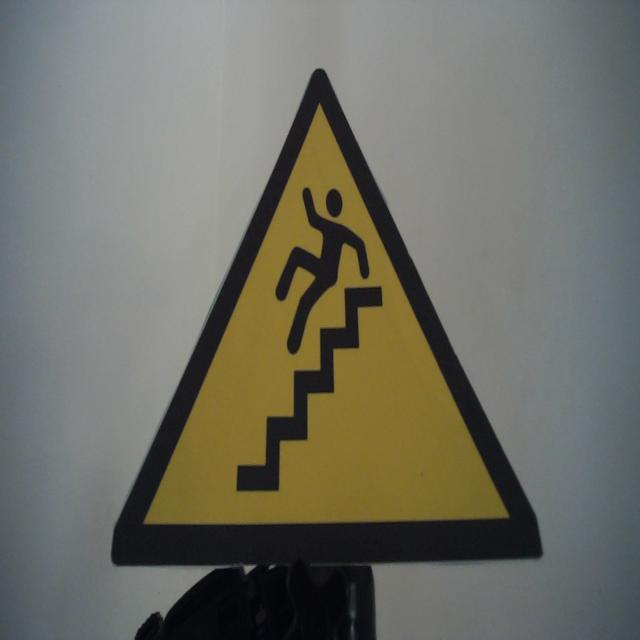stairs: (108, 62, 546, 572)
